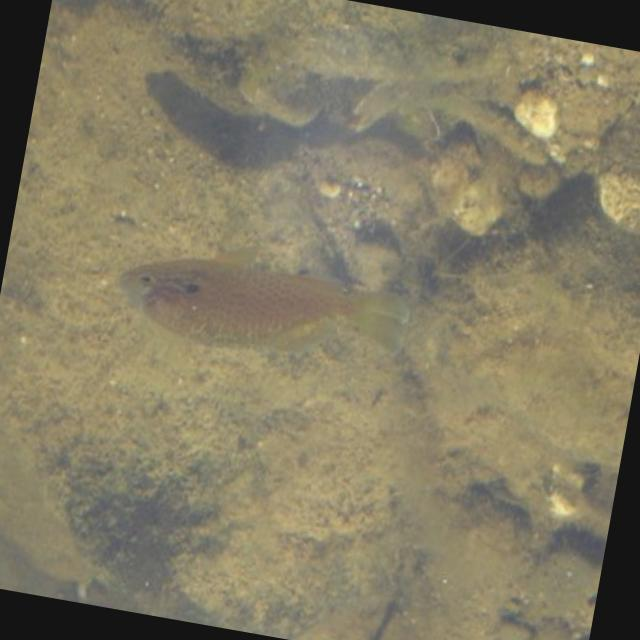Gunes Levregi: (100, 213, 431, 400)
